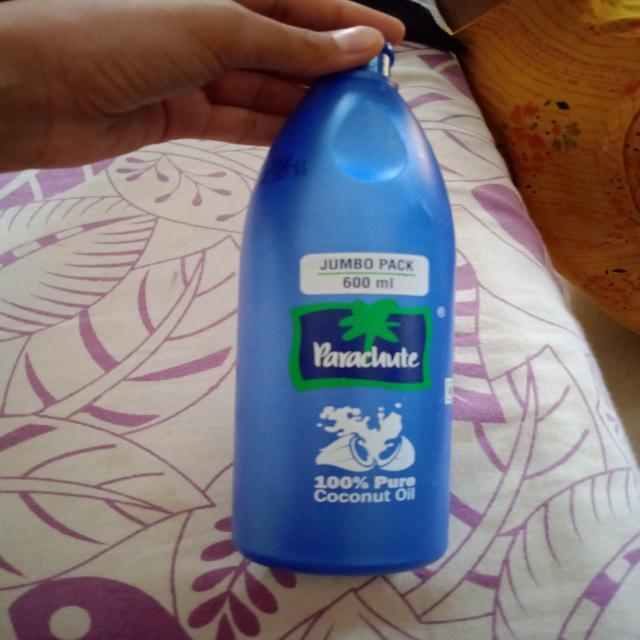parachute_oil: (226, 37, 462, 583)
